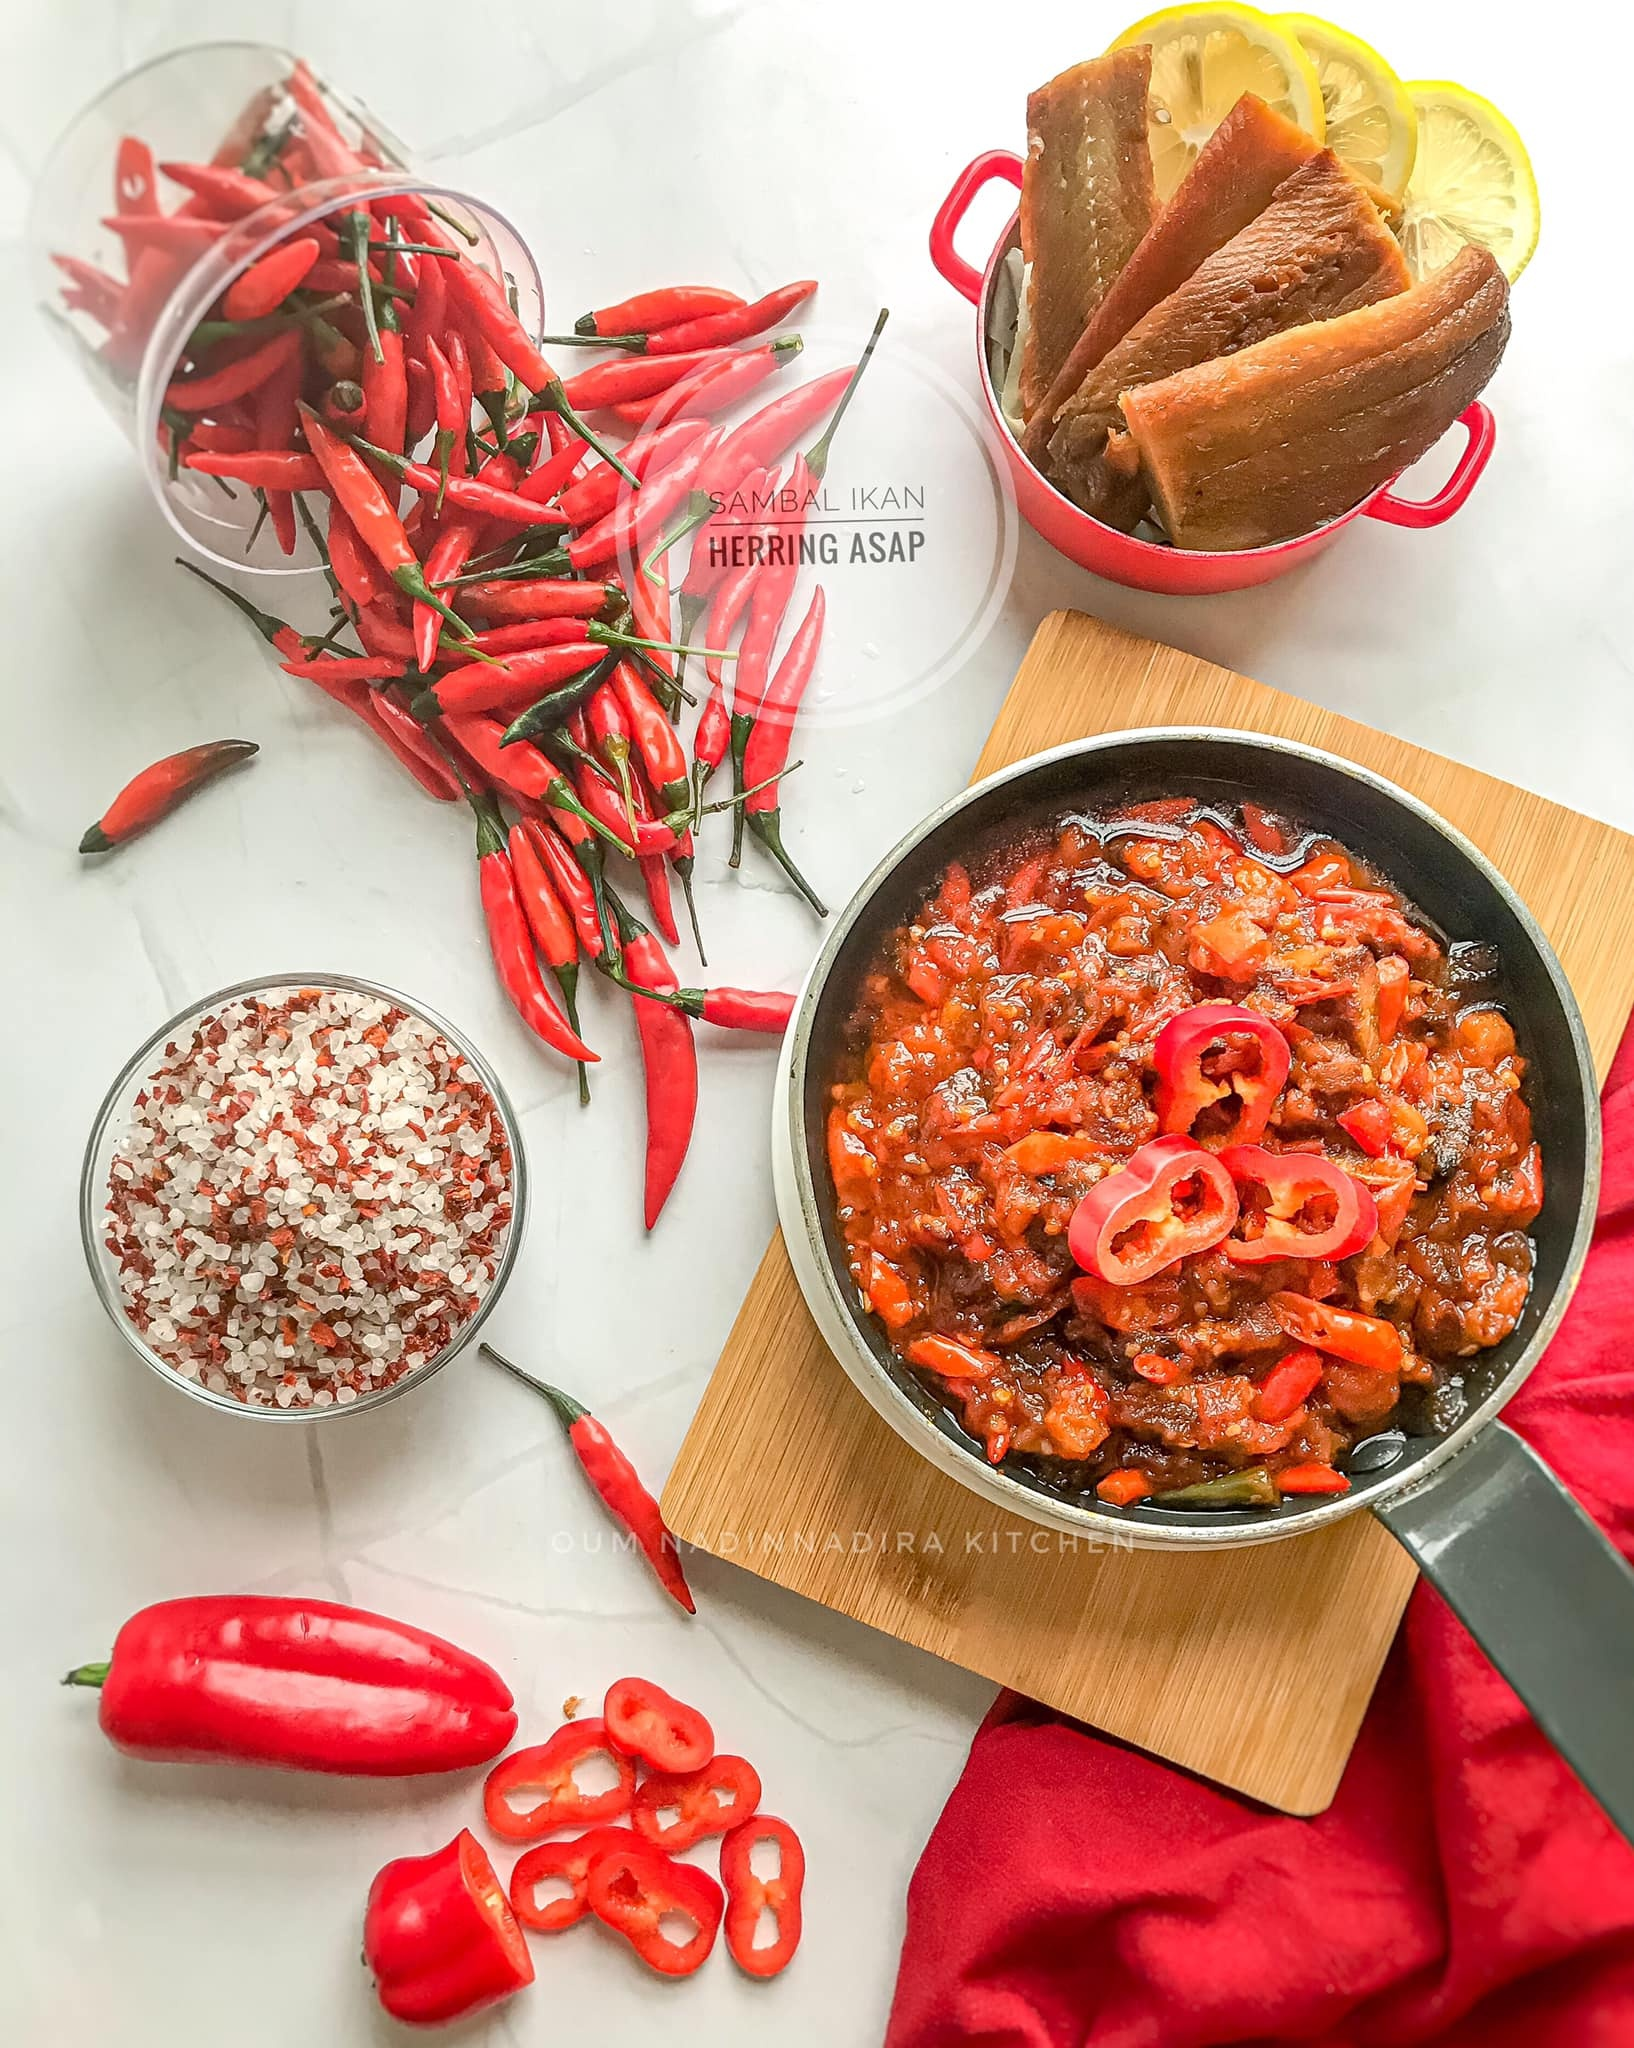sambal: (817, 821, 1544, 1494)
